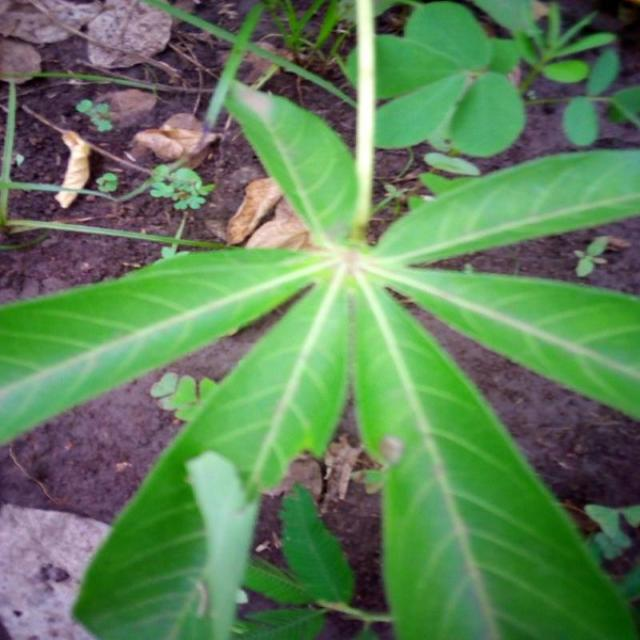cassava leaf: (1, 5, 638, 638), (353, 272, 637, 639)
